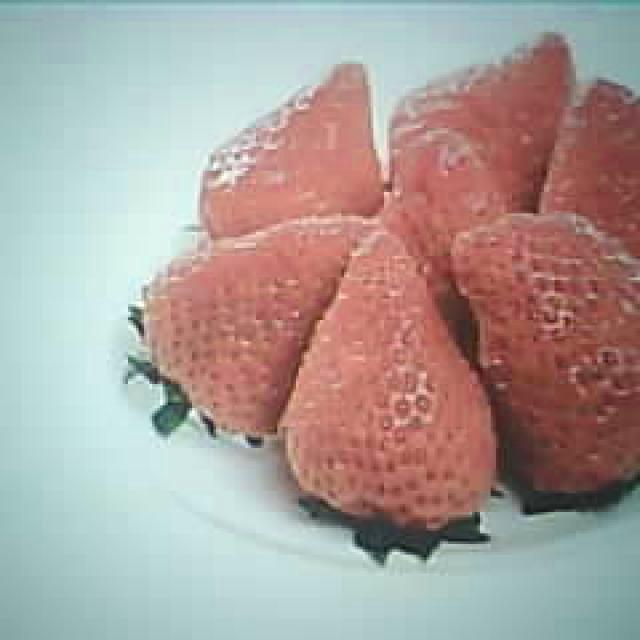ripe: (290, 238, 496, 524), (141, 216, 368, 436)
